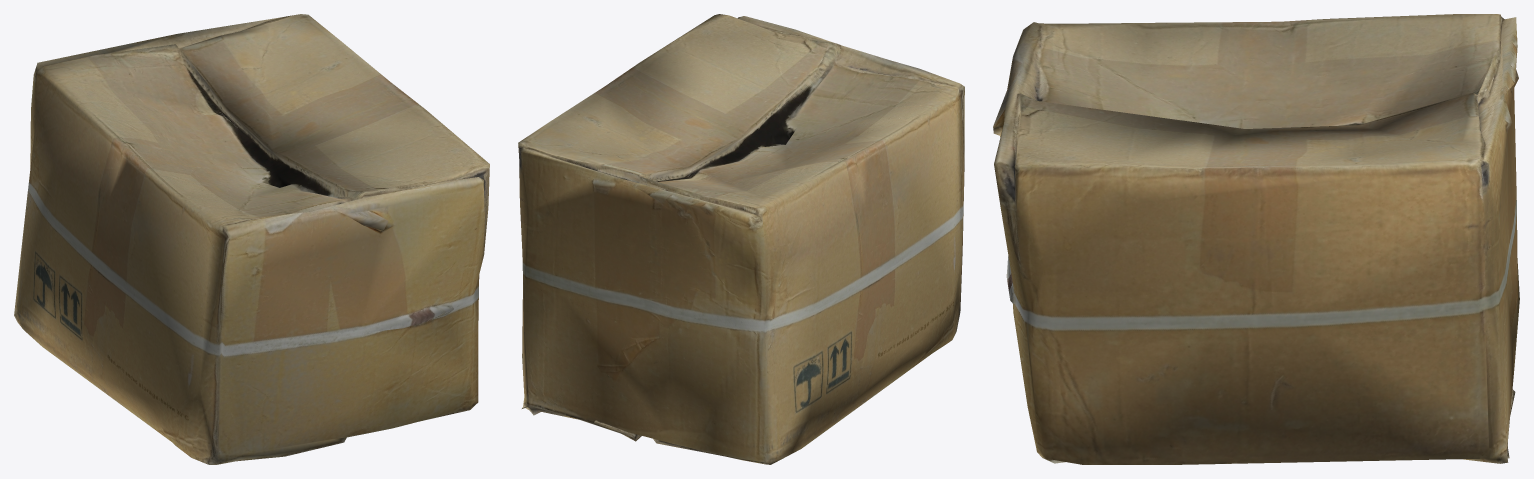
File: cardboard_box_01_opt.gltf
The picture shows the model from 3 angles, left to right: view 1: azimuth 30°, elevation 25°; view 2: azimuth 150°, elevation 25°; view 3: azimuth 270°, elevation 25°; orthographic projection. The views are drawn at different scales.
Parts seen in each view (by area): view 1: cardboard_box_01; view 2: cardboard_box_01; view 3: cardboard_box_01.
Boxes of the visible parts, x1=… form: cardboard_box_01: x1=14, y1=14, x2=489, y2=464; cardboard_box_01: x1=518, y1=14, x2=964, y2=464; cardboard_box_01: x1=993, y1=14, x2=1519, y2=464.
Size of the model in its own units: 0.384 by 0.3394 by 0.5159.
Materials: 1 (1 with a texture image).
